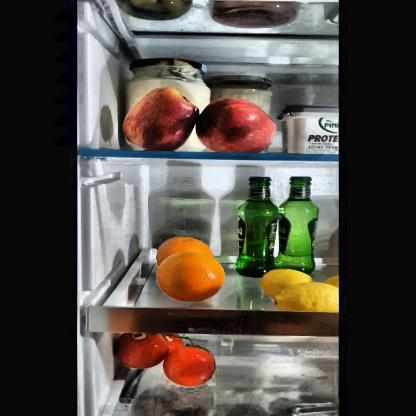apple: (120, 87, 200, 152), (198, 98, 274, 154)
cheese: (280, 103, 338, 153)
lemon: (271, 282, 339, 313)
mineral_water: (276, 176, 317, 270), (237, 177, 274, 271)
orange: (158, 250, 224, 299)
tomato: (164, 346, 216, 386), (115, 333, 167, 369)
